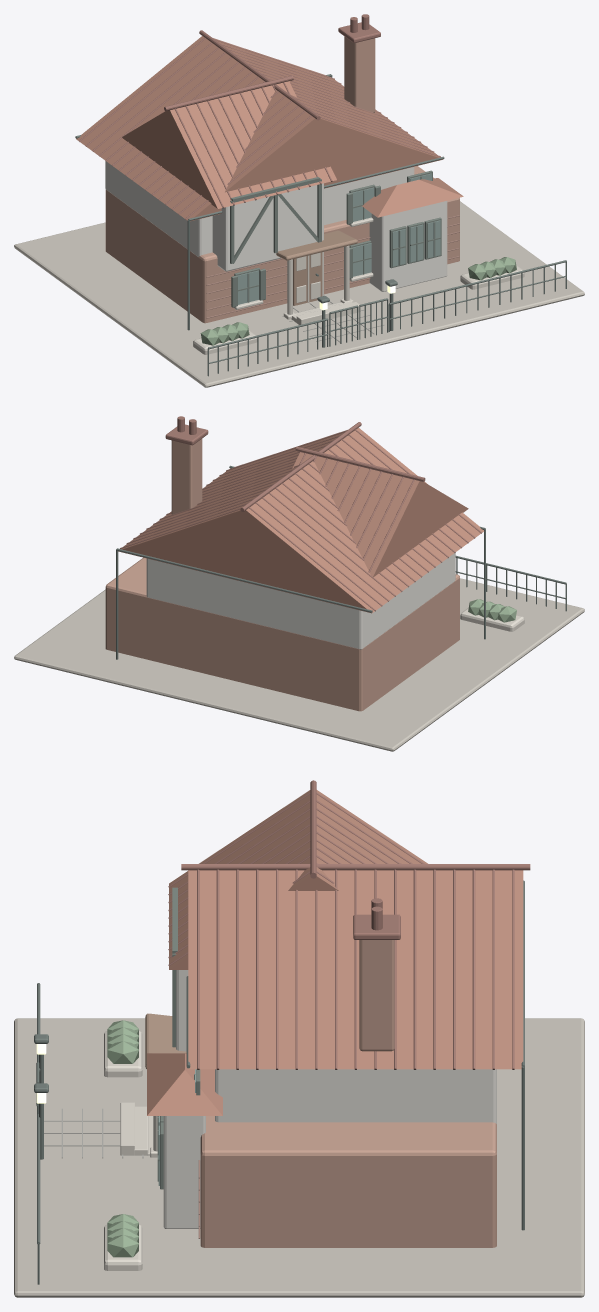
File: house-315.glb
3 renders of one model, top to bottom at view 1: azimuth 30°, elevation 25°; view 2: azimuth 150°, elevation 25°; view 3: azimuth 270°, elevation 25°, orthographic. The views are drawn at different scales.
Visible parts, largest first — view 1: house-315; view 2: house-315; view 3: house-315.
Boxes of the visible parts, bbox=[...] form: house-315: bbox=[14, 14, 584, 387]; house-315: bbox=[14, 416, 584, 751]; house-315: bbox=[14, 780, 584, 1297].
Bounding box in the file's own units: 18.5 × 10.02 × 16.2.
